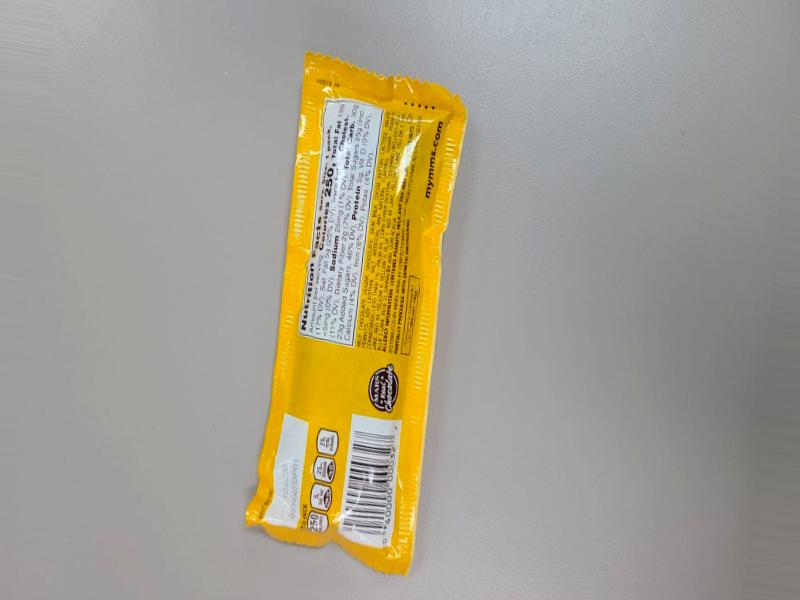m&m: (255, 65, 463, 522)
